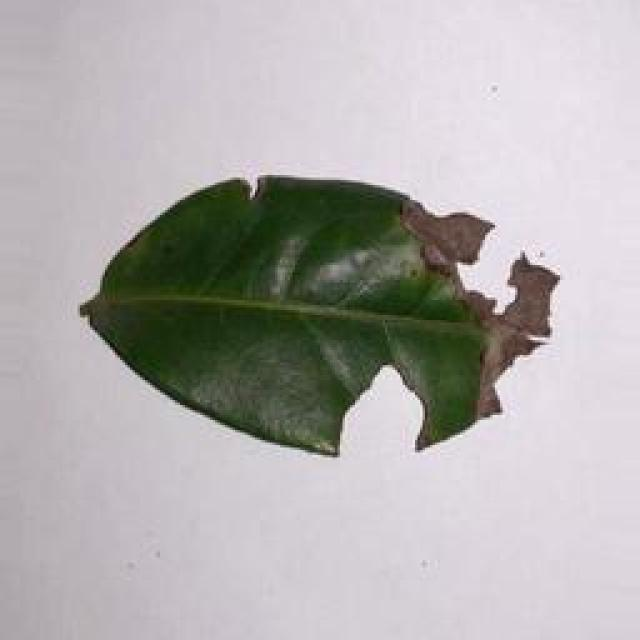Brown Blight: (83, 166, 576, 455)
